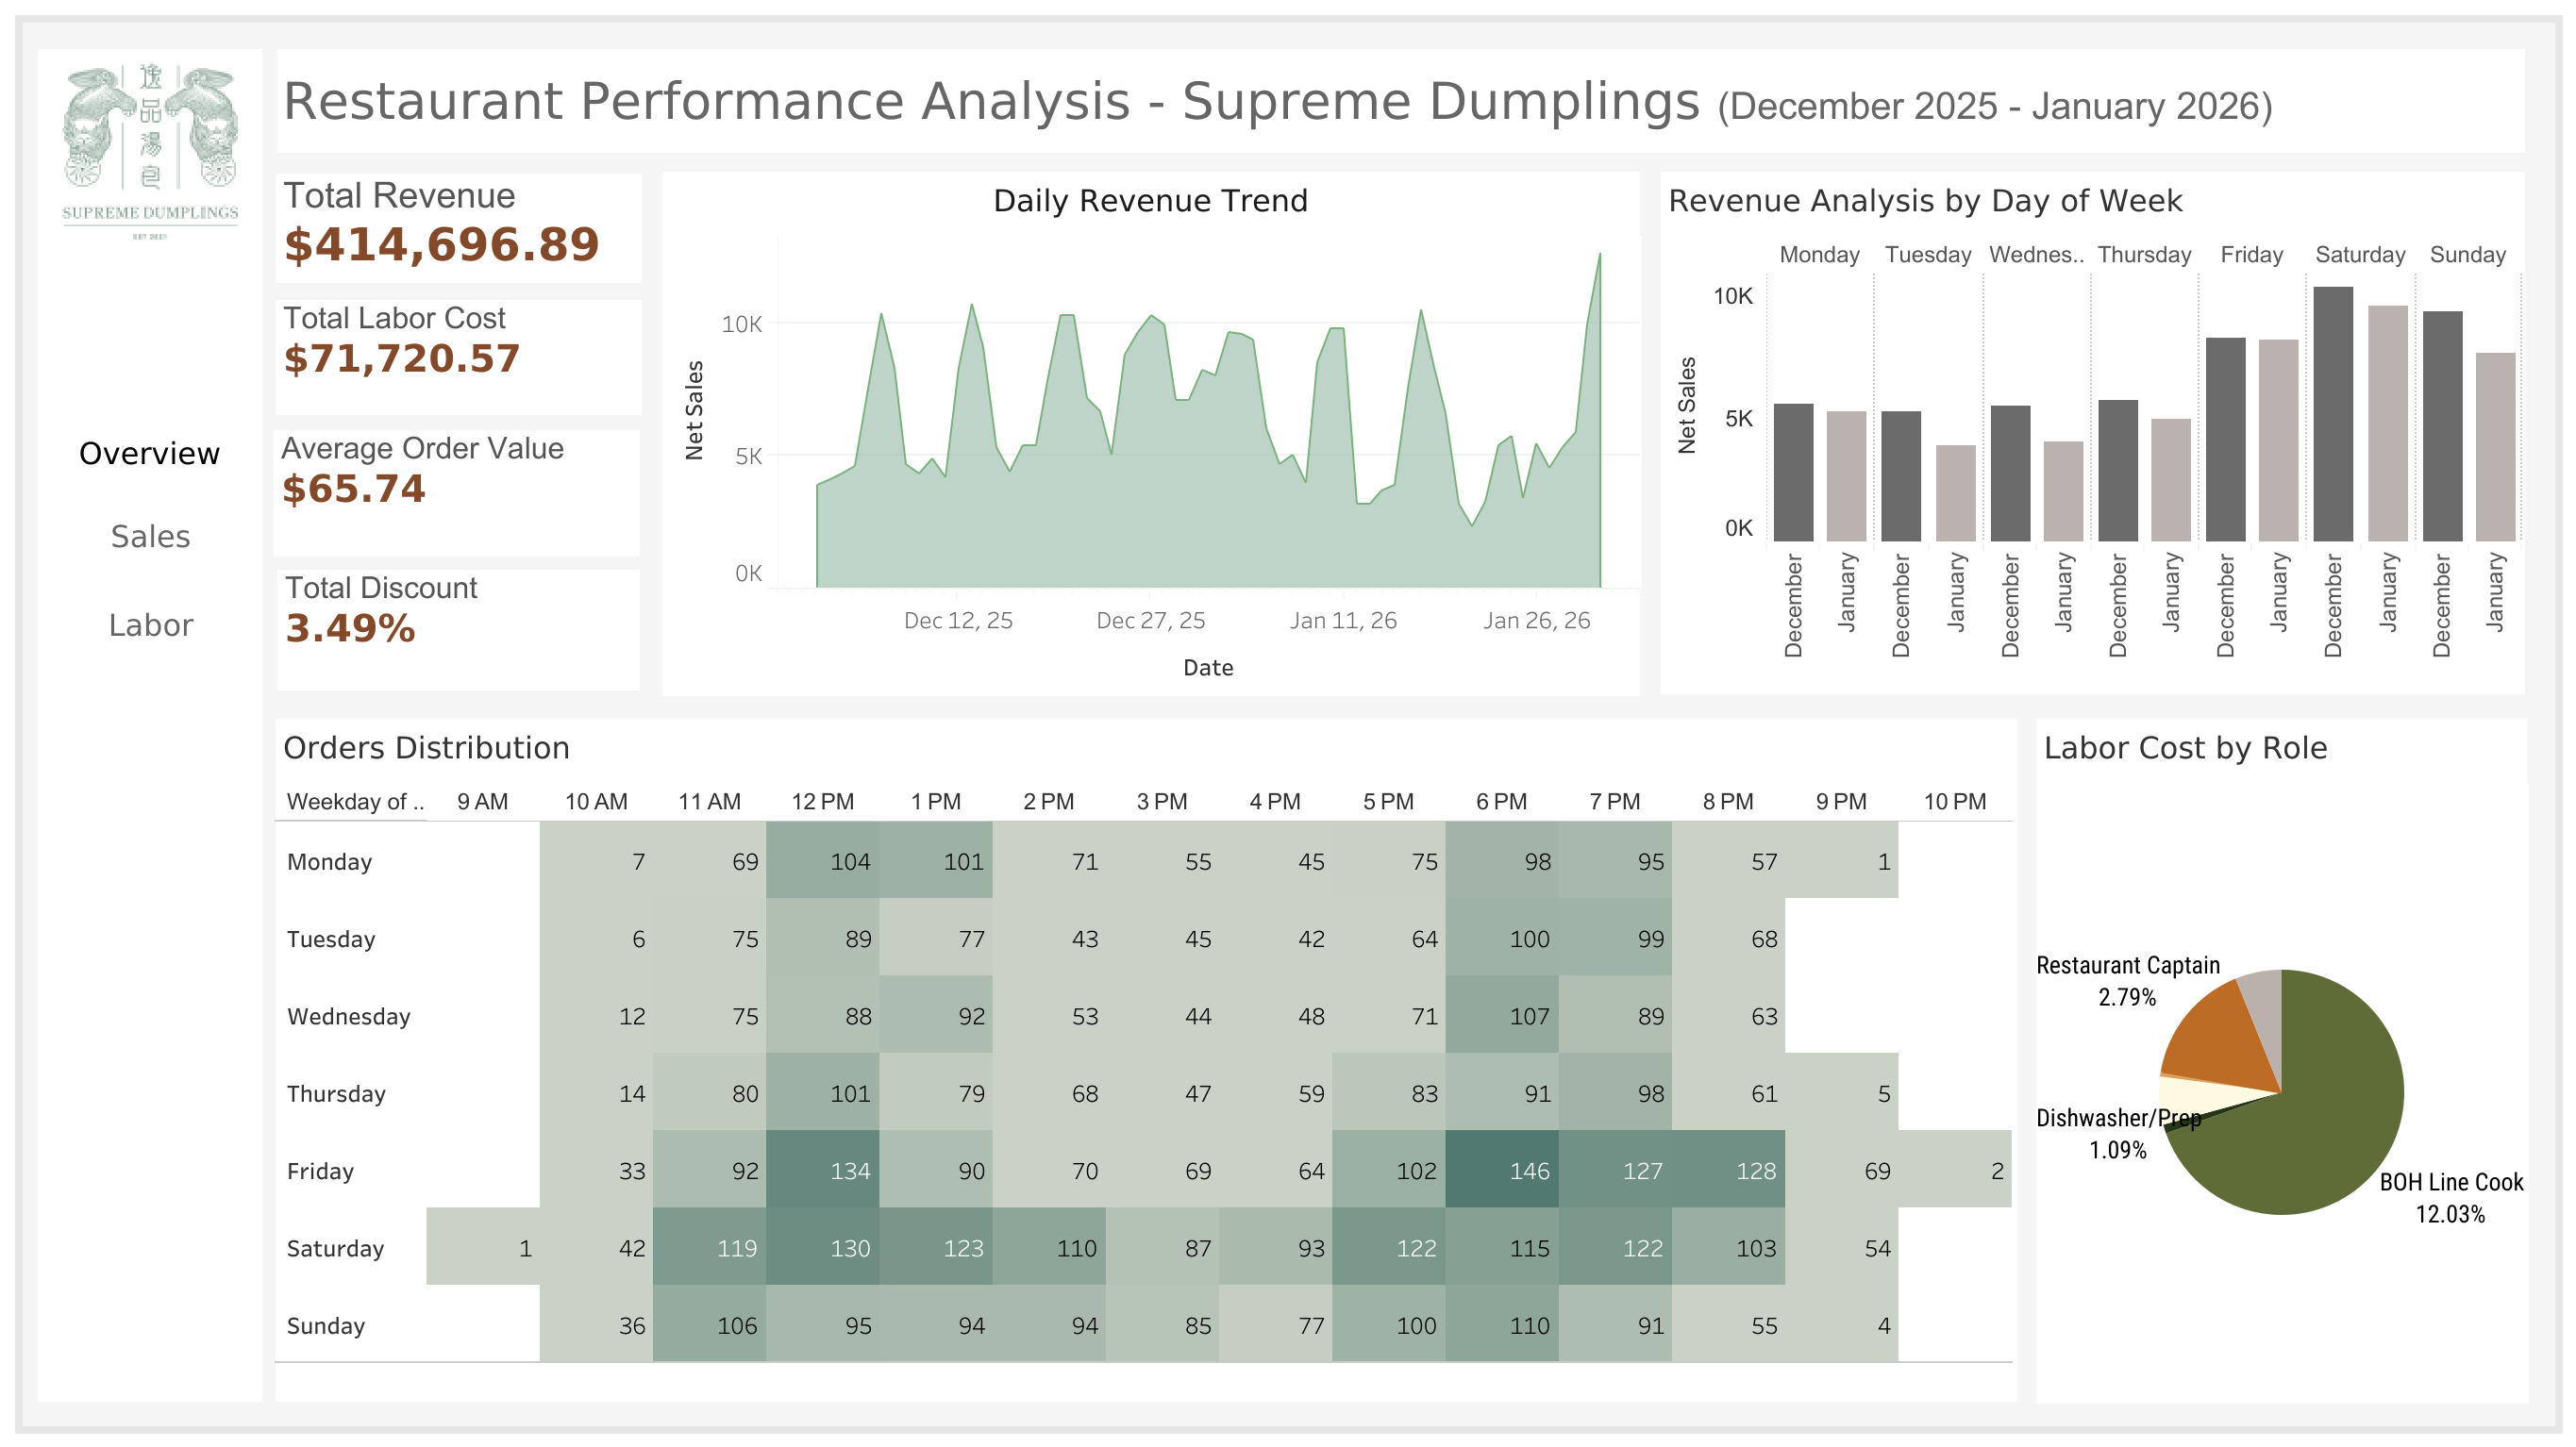

Layout of this report page (visuals, bound fields, positions):
{"tool":"tableau","page":{"name":"Overview","canvas":[1366,768],"ordinal":1},"visuals":[{"type":"blank","box":[8,8,1350,752]},{"type":"text","box":[147,26,1191,55]},{"type":"image","param":"Image/23c62c_1f53a89e73aa412ca621fc0522c413b6~mv2 1.png","box":[21,27,117,121]},{"type":"worksheet","title":"Daily Revenue Trend","mark":"Area","rows":["Calculation_0565328516292628"],"cols":["Opened"],"box":[351,91,518,278]},{"type":"worksheet","title":"Revenue Analysis by Day of Week","mark":"Automatic","cols":["weekday"],"box":[880,91,458,277]},{"type":"worksheet","title":"Total Revenue","mark":"Automatic","box":[146,92,194,58]},{"type":"worksheet","title":"Labor Cost","mark":"Automatic","box":[146,159,194,61]},{"type":"dashboard-object","box":[21,220,117,40]},{"type":"worksheet","title":"Average Order Value","mark":"Automatic","box":[145,228,194,67]},{"type":"dashboard-object","box":[21,262,118,45]},{"type":"worksheet","title":"Discount","mark":"Automatic","box":[147,302,192,64]},{"type":"dashboard-object","box":[21,309,118,44]},{"type":"worksheet","title":"Orders Distribution","mark":"Square","rows":["Opened"],"cols":["Opened"],"box":[146,381,923,362]},{"type":"worksheet","title":"Labor Cost by Role","mark":"Pie","box":[1079,381,260,362]}]}

Visuals, with their boxes in screenshot pixels (x1, y1, x2, y2), scaled from the page's 1366x768 canvas onto the 2576x1447 screenshot:
blank: BBox(15, 15, 2561, 1432)
text: BBox(277, 49, 2523, 153)
image: BBox(40, 51, 260, 279)
"Daily Revenue Trend" worksheet (Area marks): BBox(661, 172, 1639, 695)
"Revenue Analysis by Day of Week" worksheet: BBox(1660, 172, 2523, 693)
"Total Revenue" worksheet: BBox(276, 174, 642, 283)
"Labor Cost" worksheet: BBox(276, 300, 642, 414)
dashboard-object: BBox(40, 414, 260, 490)
"Average Order Value" worksheet: BBox(274, 429, 640, 556)
dashboard-object: BBox(40, 493, 262, 578)
"Discount" worksheet: BBox(277, 569, 640, 690)
dashboard-object: BBox(40, 582, 262, 665)
"Orders Distribution" worksheet (Square marks): BBox(276, 718, 2016, 1400)
"Labor Cost by Role" worksheet (Pie marks): BBox(2034, 718, 2525, 1400)
